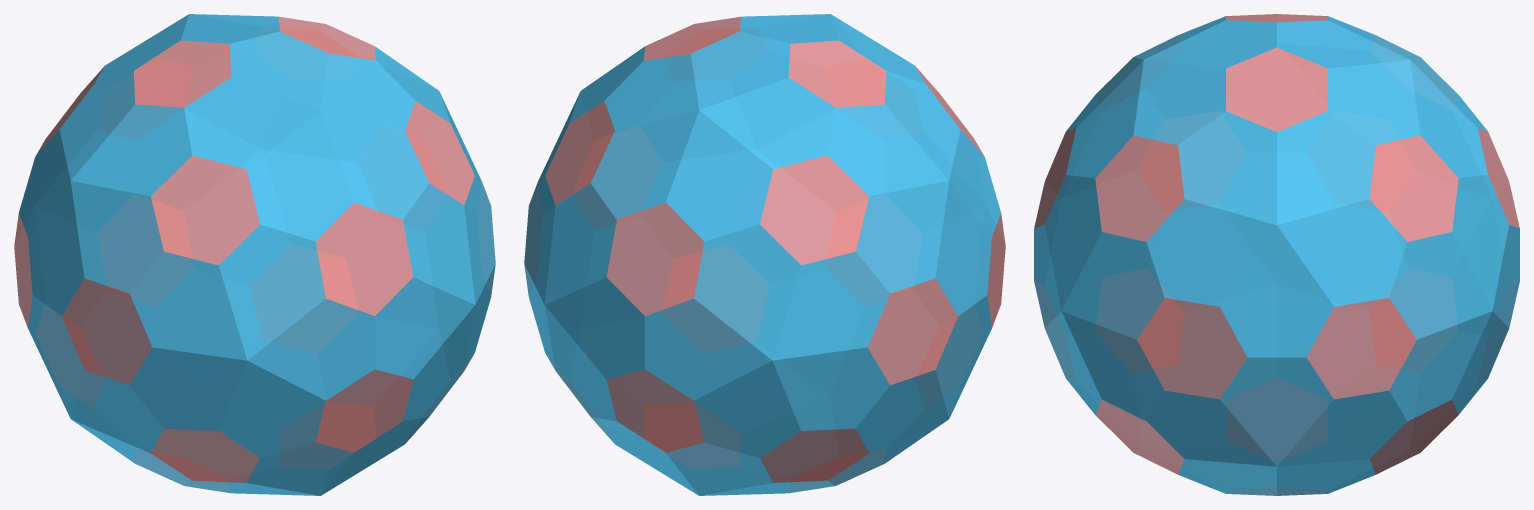
File: TruncatedPentakisDodecahedron.obj
The picture shows the model from 3 angles, left to right: view 1: azimuth 30°, elevation 25°; view 2: azimuth 150°, elevation 25°; view 3: azimuth 270°, elevation 25°; orthographic projection.
Size of the model in its own units: 8.22 by 8.22 by 8.22.
